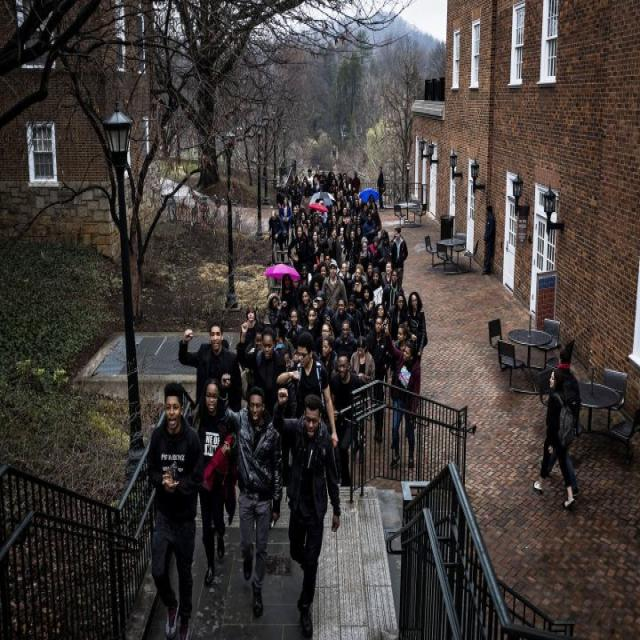body: (270, 384, 342, 639), (213, 369, 284, 622), (143, 378, 206, 638), (181, 375, 241, 589), (538, 337, 583, 499), (276, 331, 338, 448), (531, 365, 577, 512), (286, 163, 383, 228), (177, 320, 243, 415), (233, 320, 289, 424), (328, 352, 369, 489), (303, 227, 391, 290), (388, 321, 417, 471), (364, 314, 396, 446), (348, 333, 377, 464), (250, 319, 305, 376), (345, 288, 395, 348), (220, 319, 250, 417), (386, 291, 408, 388), (406, 290, 430, 366), (286, 288, 334, 320), (347, 333, 376, 383), (388, 225, 409, 292), (238, 302, 267, 350), (357, 283, 378, 349), (321, 261, 347, 312), (480, 201, 497, 276), (382, 268, 406, 319), (279, 272, 301, 325), (286, 226, 304, 290), (330, 296, 356, 340), (334, 317, 359, 360), (267, 208, 285, 267), (301, 305, 322, 355), (286, 221, 306, 272), (344, 293, 365, 340), (274, 189, 287, 263), (283, 308, 305, 351), (265, 291, 286, 336), (314, 320, 338, 359), (318, 336, 340, 377), (279, 195, 293, 249), (394, 316, 412, 352), (375, 164, 387, 213), (380, 257, 394, 288), (308, 228, 322, 257), (390, 224, 404, 245)
